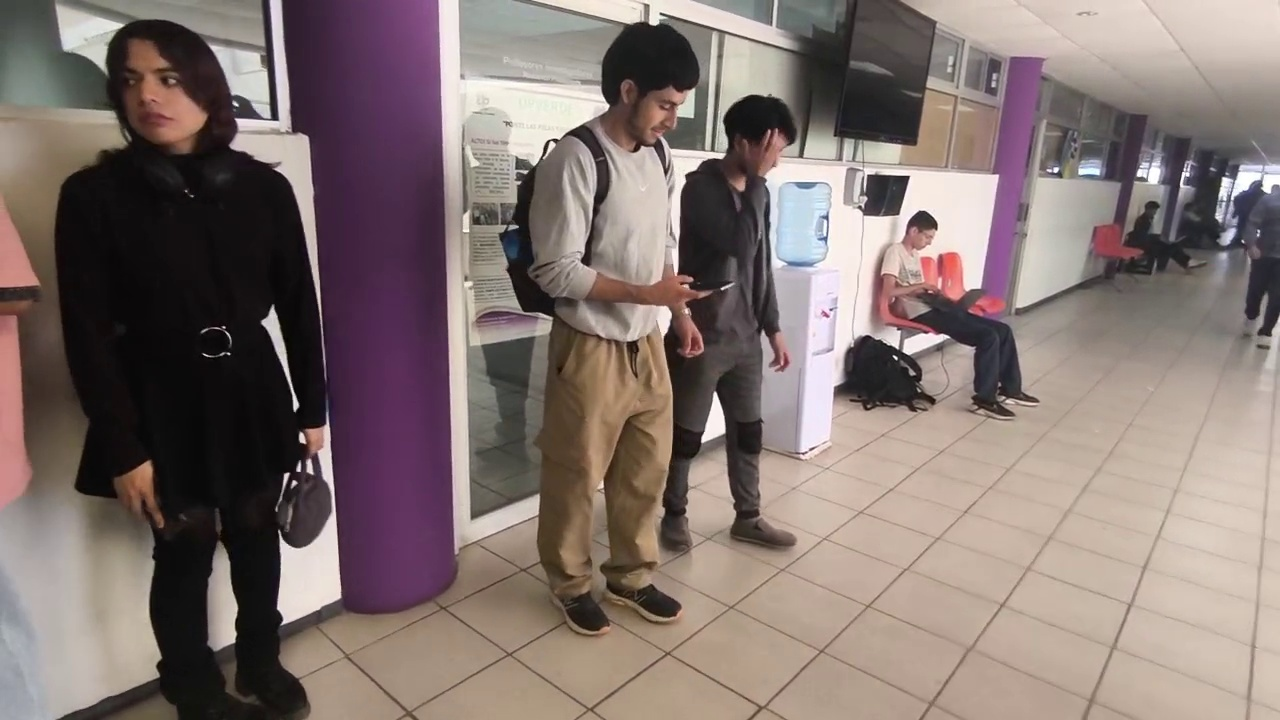mixto2: (138, 500, 202, 546), (685, 278, 738, 296)
